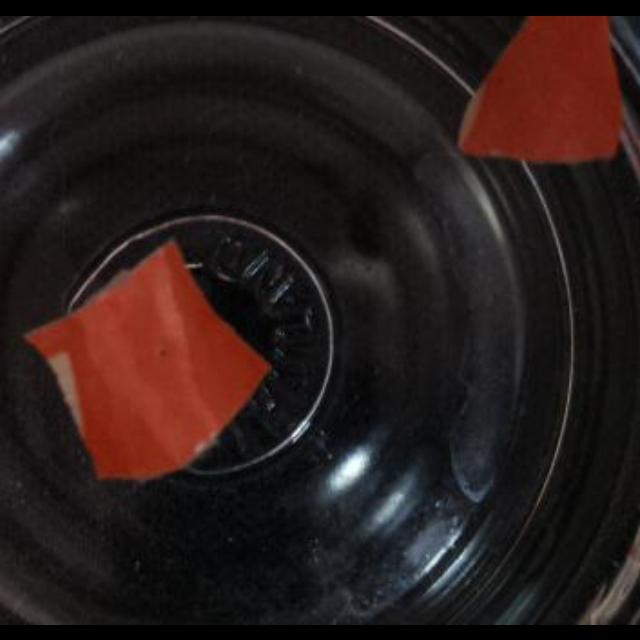Fragment: (18, 245, 272, 489), (452, 16, 622, 160)
